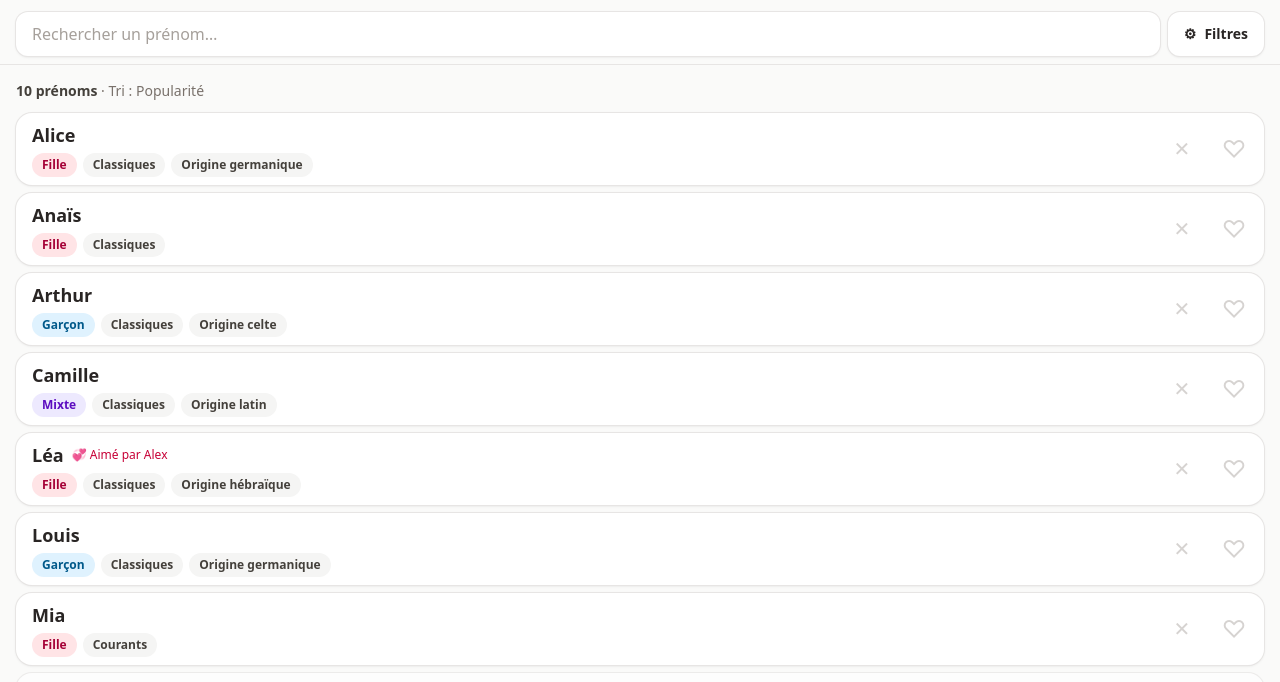
it: ListPage › opens the filter dialog, narrows by letter and persists the filters
The width and height of the screenshot is (1280, 682).
Expected: the text "10 prénoms" is shown, x1=16 y1=81 x2=98 y2=100
Click the button "⚙︎ Filtres" at (1216, 34), box x1=1168 y1=12 x2=1264 y2=56
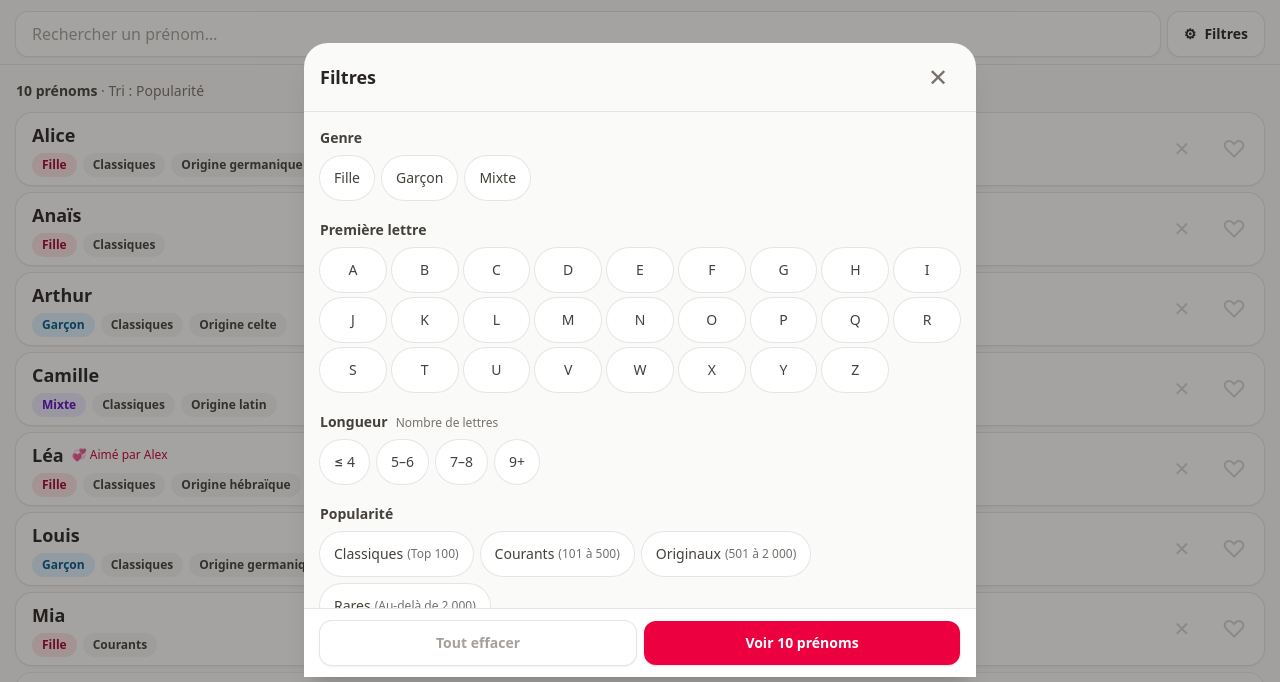
Click the button named "Lettre Z" at (855, 370), box x1=822 y1=348 x2=888 y2=392
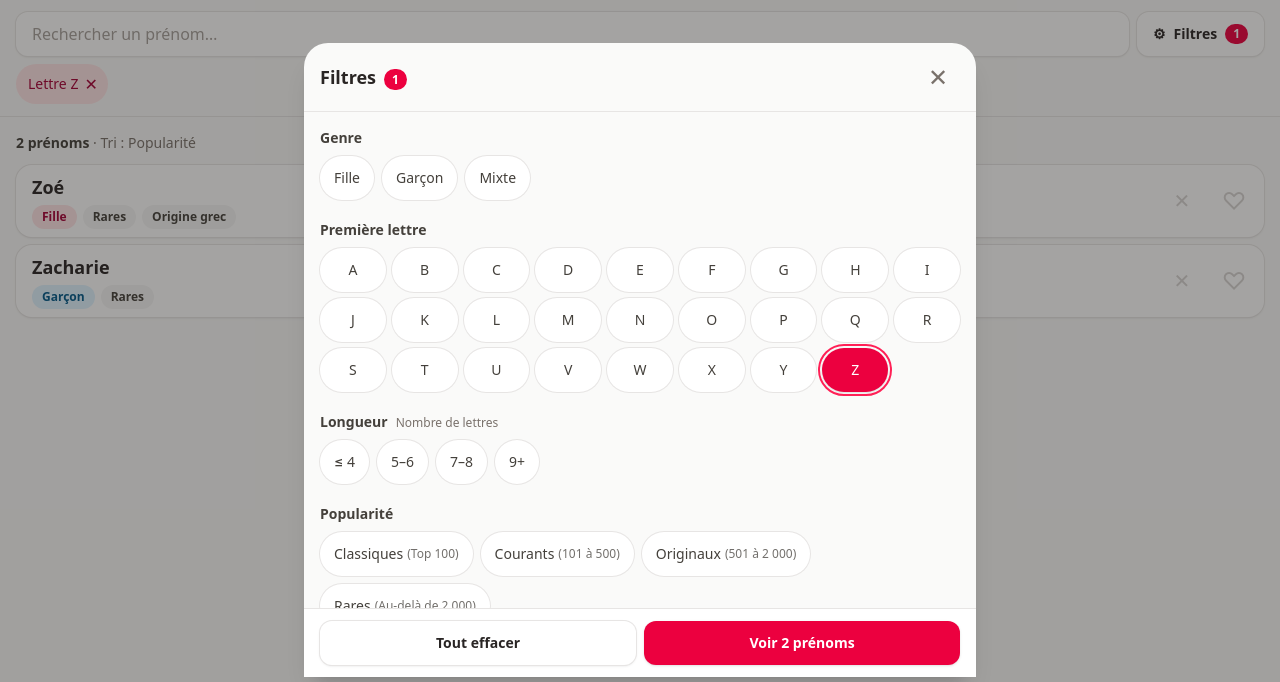
Expected: the button "Voir 2 prénoms" is shown, x1=644 y1=621 x2=960 y2=665
Press Escape
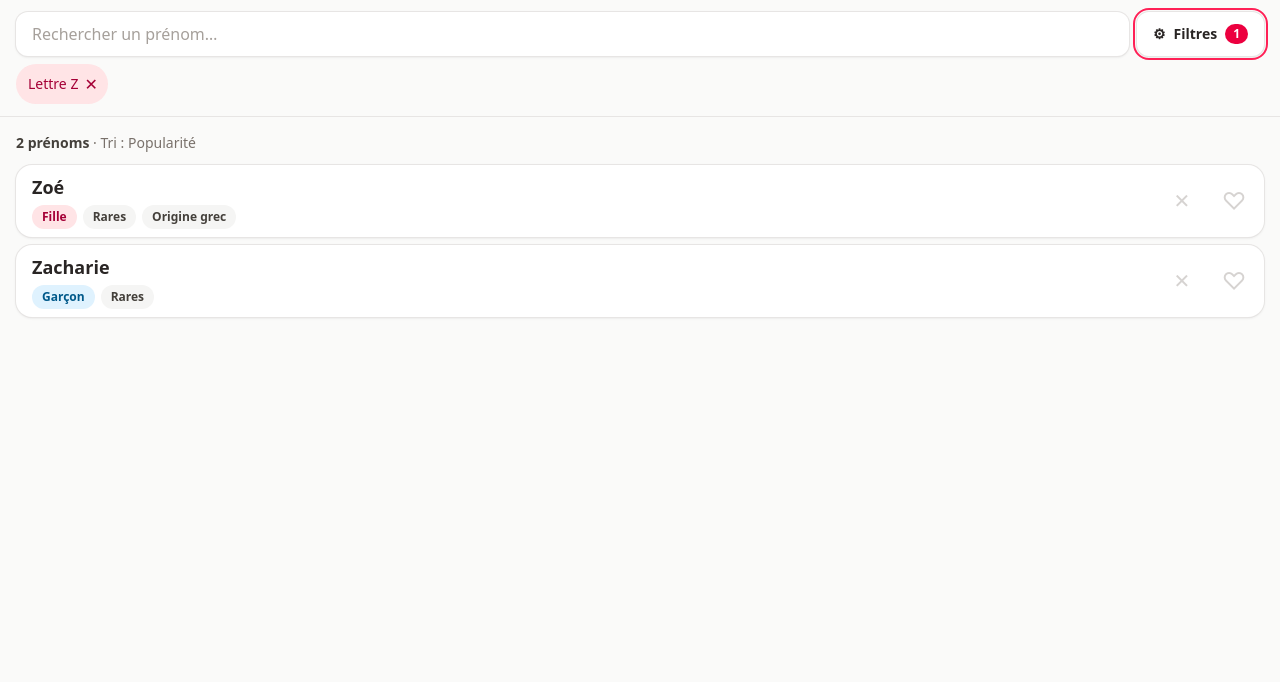
Expected: the button with aria-label "Retirer le filtre Lettre Z" is shown
Expected: the dialog is gone
Click the button with aria-label "Retirer le filtre Lettre Z" at (62, 84), box x1=16 y1=64 x2=108 y2=104
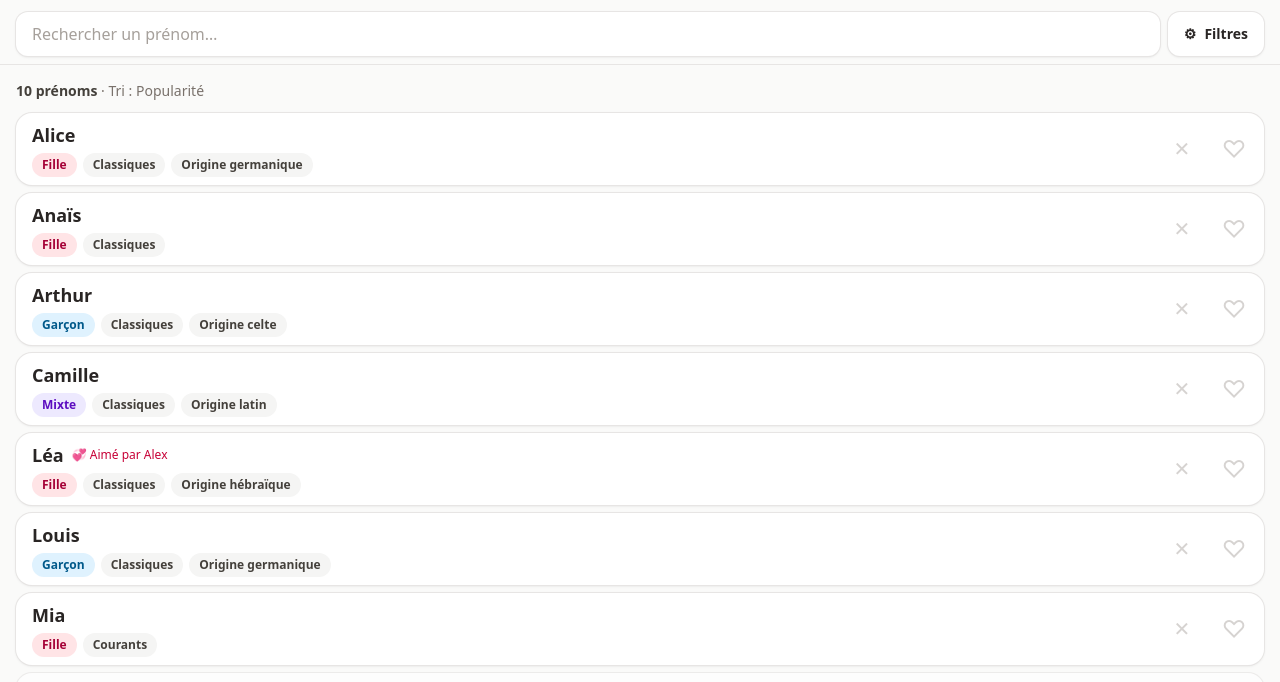
Expected: the text "10 prénoms" is shown, x1=16 y1=81 x2=98 y2=100
